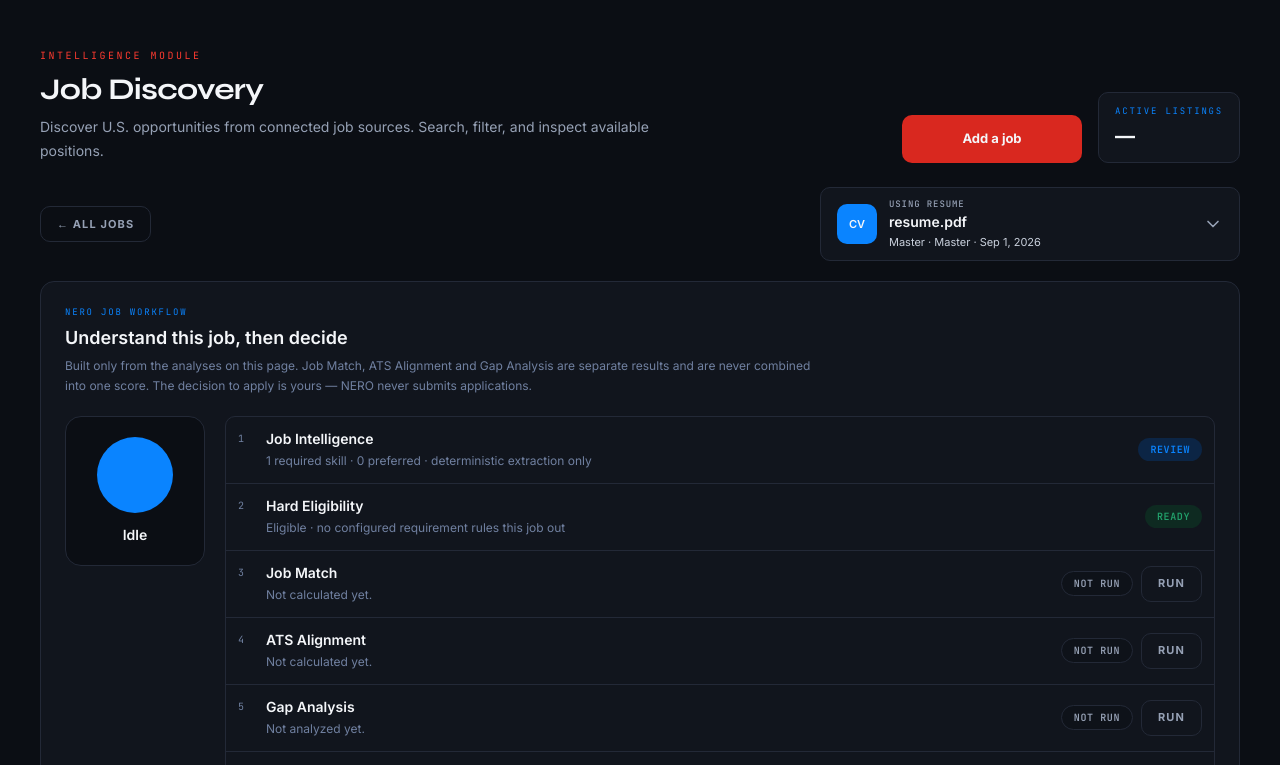
Test: Jobs page — AJI-023 decision workflow › runs a stage from the workflow and retries it after a failure
Click the button with aria-label "Run Job Match" at (1172, 584), box [1141,566,1202,602]
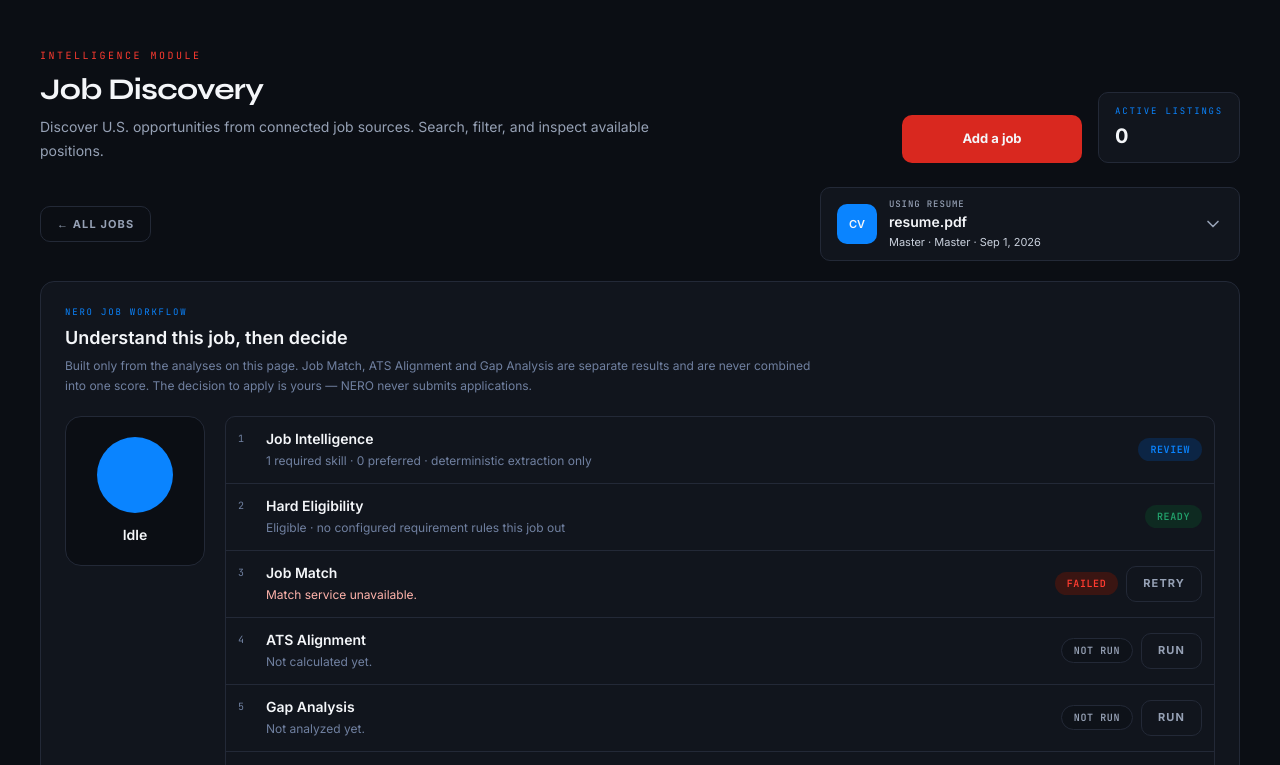
Check: the text "Match service unavailable." is shown, box [266,584,417,604]
Click the button with aria-label "Retry Job Match" at (1164, 584), box [1126,566,1202,602]
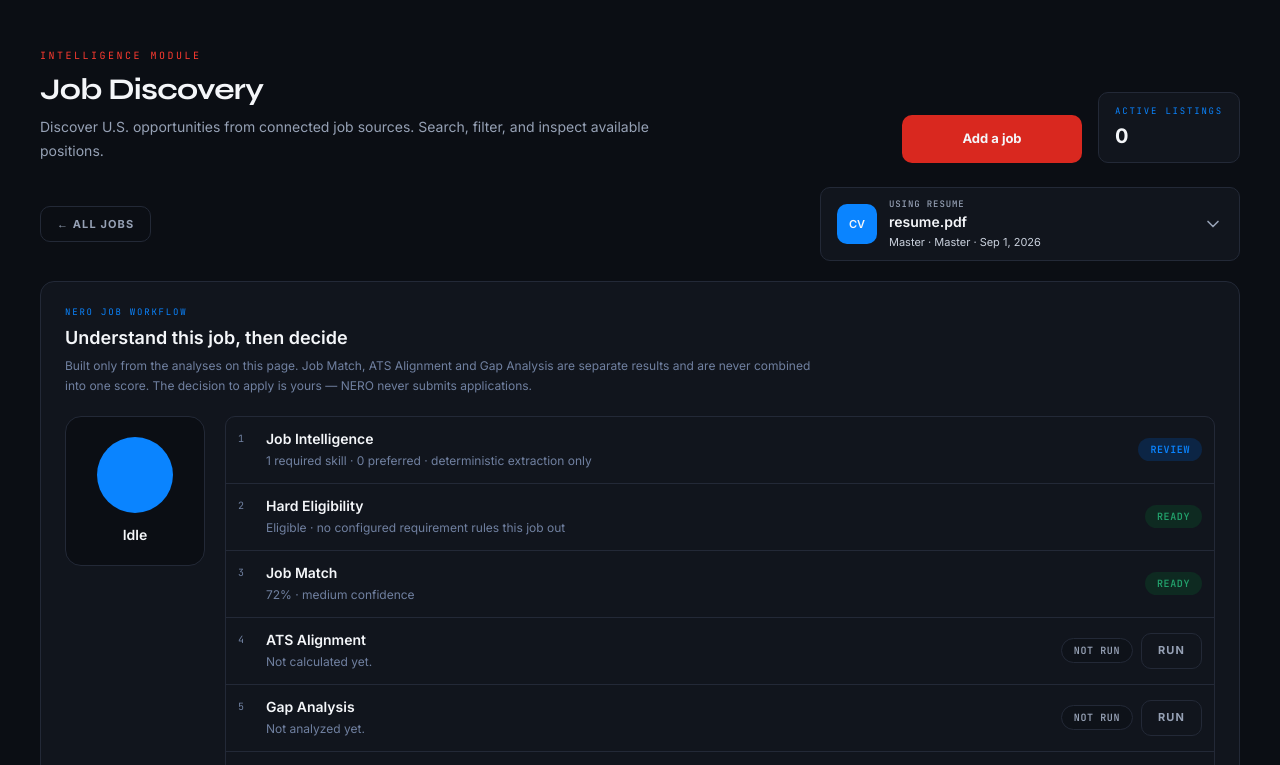
Check: the text "72% · medium confidence" is shown, box [266,584,415,604]
